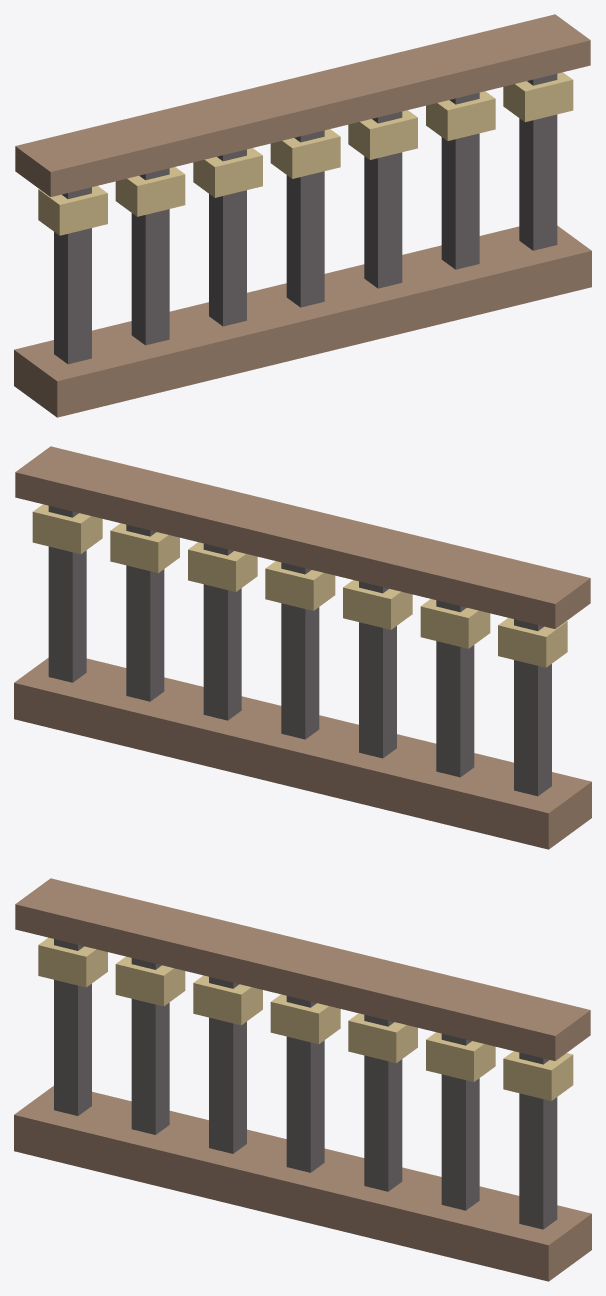
Rendered from veranda_bamboo_railing_2m.glb.
3 views of the same model, one above another, from view 1: azimuth 30°, elevation 25°; view 2: azimuth 150°, elevation 25°; view 3: azimuth 330°, elevation 25° (orthographic).
Parts seen in each view (by area): view 1: box_0, box_15, box_9, box_13, box_3, box_7, box_11, box_1, box_5, box_2, box_14, box_4 (+4 smaller); view 2: box_0, box_15, box_9, box_13, box_3, box_7, box_11, box_1, box_5, box_2, box_14, box_4 (+4 smaller); view 3: box_0, box_15, box_11, box_3, box_7, box_9, box_13, box_5, box_1, box_14, box_8, box_4 (+4 smaller).
Part boxes in pixels (bbox=[...]): box_0: bbox=[14, 225, 591, 417]; box_15: bbox=[15, 14, 590, 196]; box_9: bbox=[364, 111, 402, 288]; box_13: bbox=[519, 74, 557, 250]; box_3: bbox=[131, 168, 169, 345]; box_7: bbox=[286, 130, 324, 307]; box_11: bbox=[441, 92, 479, 269]; box_1: bbox=[54, 187, 91, 364]; box_5: bbox=[209, 149, 246, 326]; box_2: bbox=[38, 186, 107, 235]; box_14: bbox=[503, 72, 573, 122]; box_4: bbox=[115, 167, 185, 216]; box_0: bbox=[14, 657, 591, 849]; box_15: bbox=[15, 446, 590, 628]; box_9: bbox=[203, 543, 241, 720]; box_13: bbox=[48, 506, 86, 682]; box_3: bbox=[436, 600, 474, 777]; box_7: bbox=[281, 562, 319, 739]; box_11: bbox=[126, 524, 164, 701]; box_1: bbox=[514, 619, 551, 796]; box_5: bbox=[359, 581, 396, 758]; box_2: bbox=[498, 618, 567, 667]; box_14: bbox=[32, 504, 102, 554]; box_4: bbox=[420, 599, 490, 648]; box_0: bbox=[14, 1086, 591, 1281]; box_15: bbox=[15, 878, 590, 1060]; box_11: bbox=[441, 1033, 479, 1210]; box_3: bbox=[131, 958, 169, 1134]; box_7: bbox=[286, 996, 324, 1172]; box_9: bbox=[364, 1014, 402, 1191]; box_13: bbox=[519, 1052, 557, 1229]; box_5: bbox=[209, 977, 246, 1153]; box_1: bbox=[54, 939, 91, 1115]; box_14: bbox=[503, 1051, 573, 1100]; box_8: bbox=[270, 994, 340, 1044]; box_4: bbox=[115, 956, 185, 1006].
Bounding box in the file's own units: 2.02 × 0.87 × 0.28.
